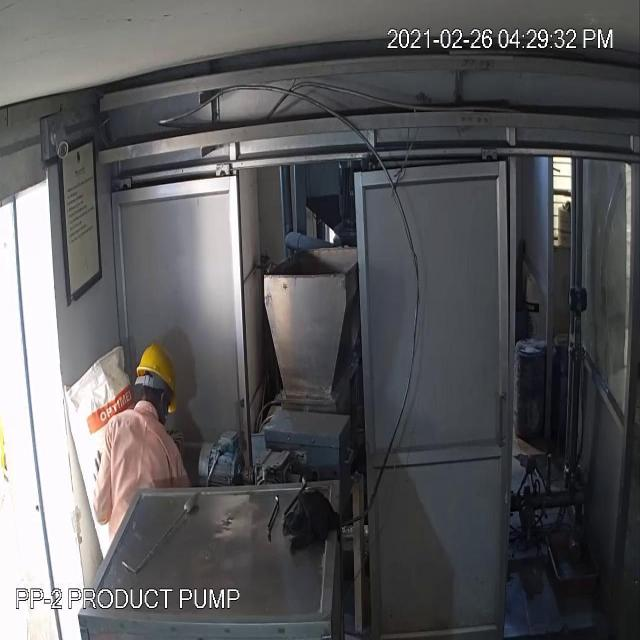helmet: (127, 338, 183, 421)
